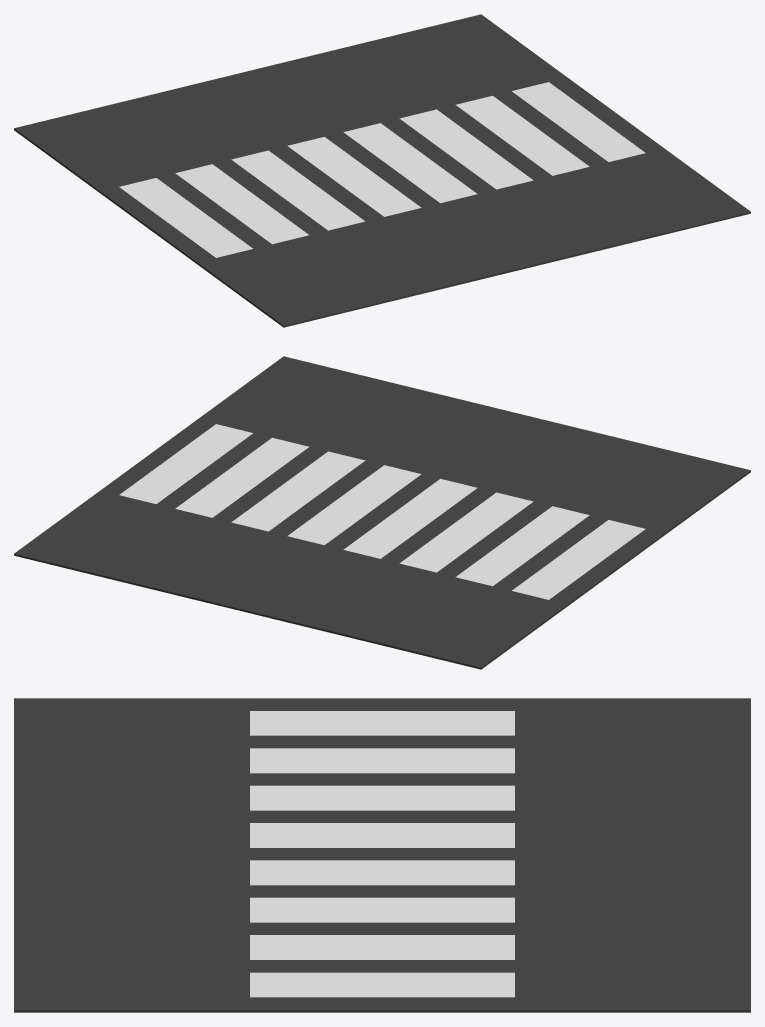
File: parking_ground_walk.vox.obj
The picture shows the model from 3 angles, top to bottom: view 1: azimuth 30°, elevation 25°; view 2: azimuth 150°, elevation 25°; view 3: azimuth 270°, elevation 25°; orthographic projection. The views are drawn at different scales.
Size of the model in its own units: 25 by 0.1 by 25.
Materials: 1 (1 with a texture image).
